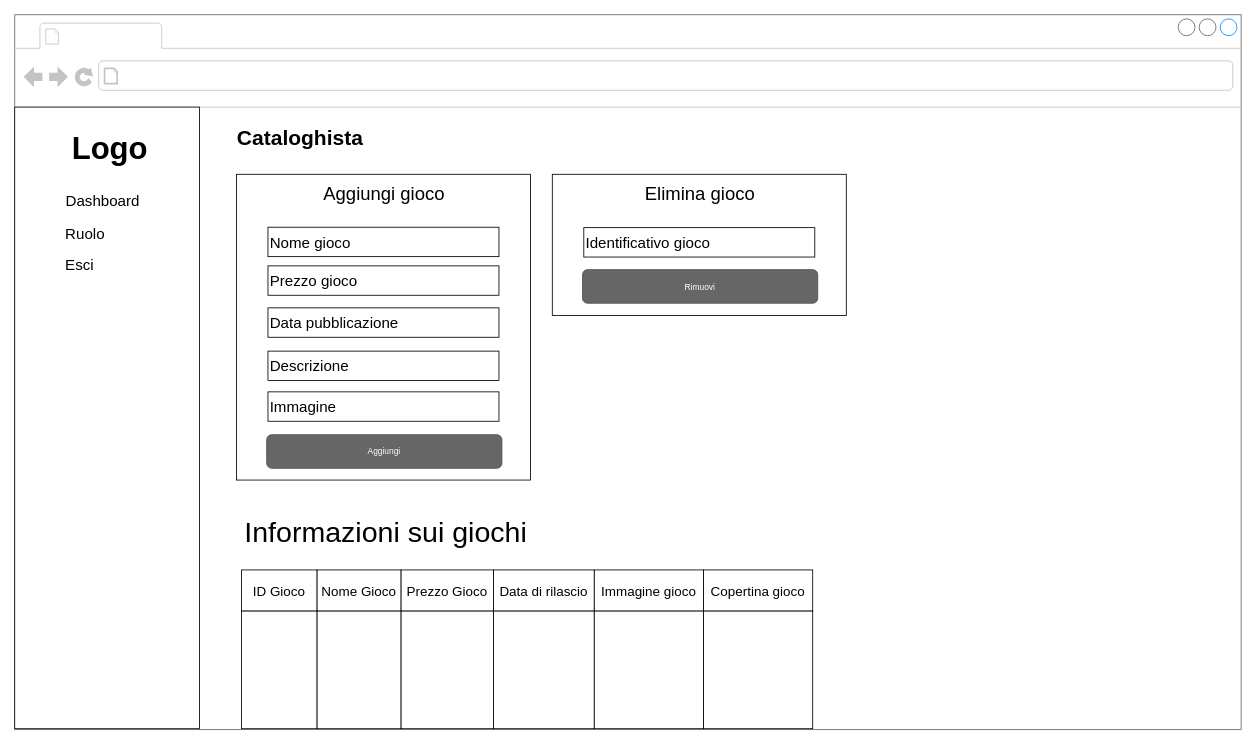
The diagram is 1257 pixels wide and 744 high, and some of its shapes have lost their labels. Each missing label, with the centre of its shape:
"https://www.default.com" belongs at [228,75].
"Page 1" belongs at [111,35].
